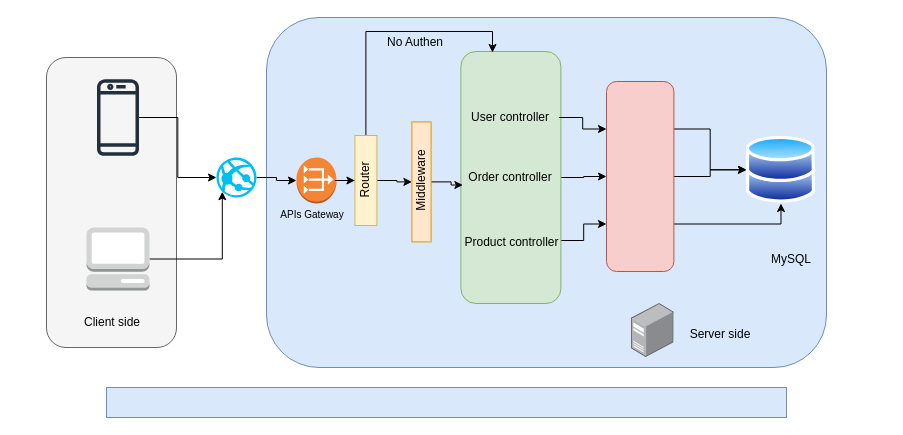
Image size: 903x435. Some labels were removed from this diagram. The shapes that lost their labels are listed below. From the top down, each one's centre as x and y in pixels, then its label:
At (640,176): "Models".
At (446,402): "Monolithic Architecture (Kiến trúc khối)".
